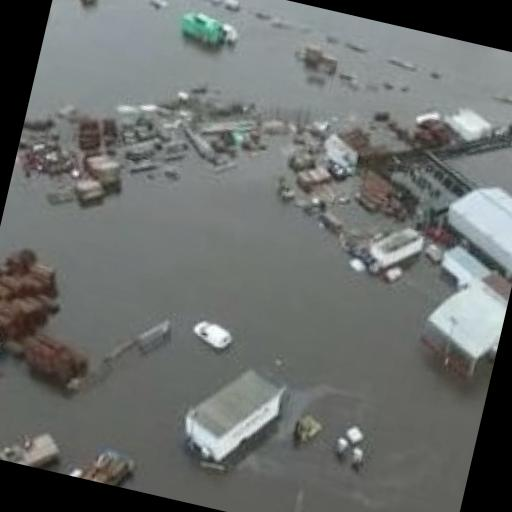flood: (0, 138, 494, 512), (26, 0, 512, 145), (447, 148, 512, 195)
house: (176, 354, 289, 474), (411, 261, 512, 384), (172, 6, 240, 60)
